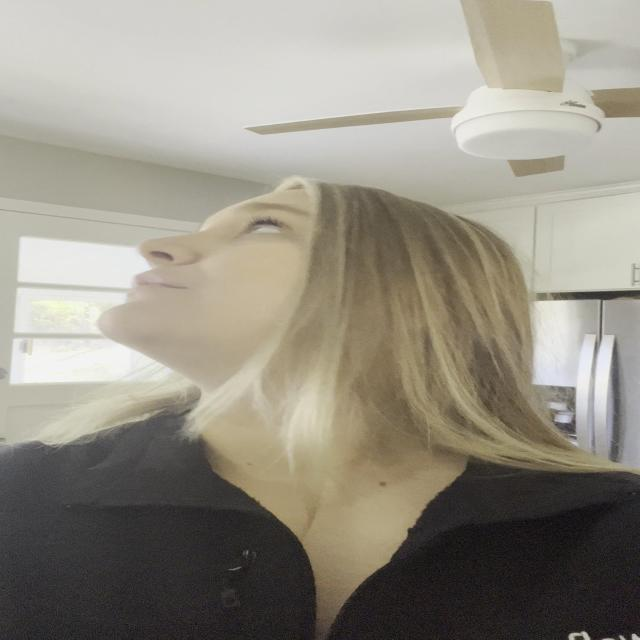no-helmet: (97, 189, 326, 354)
